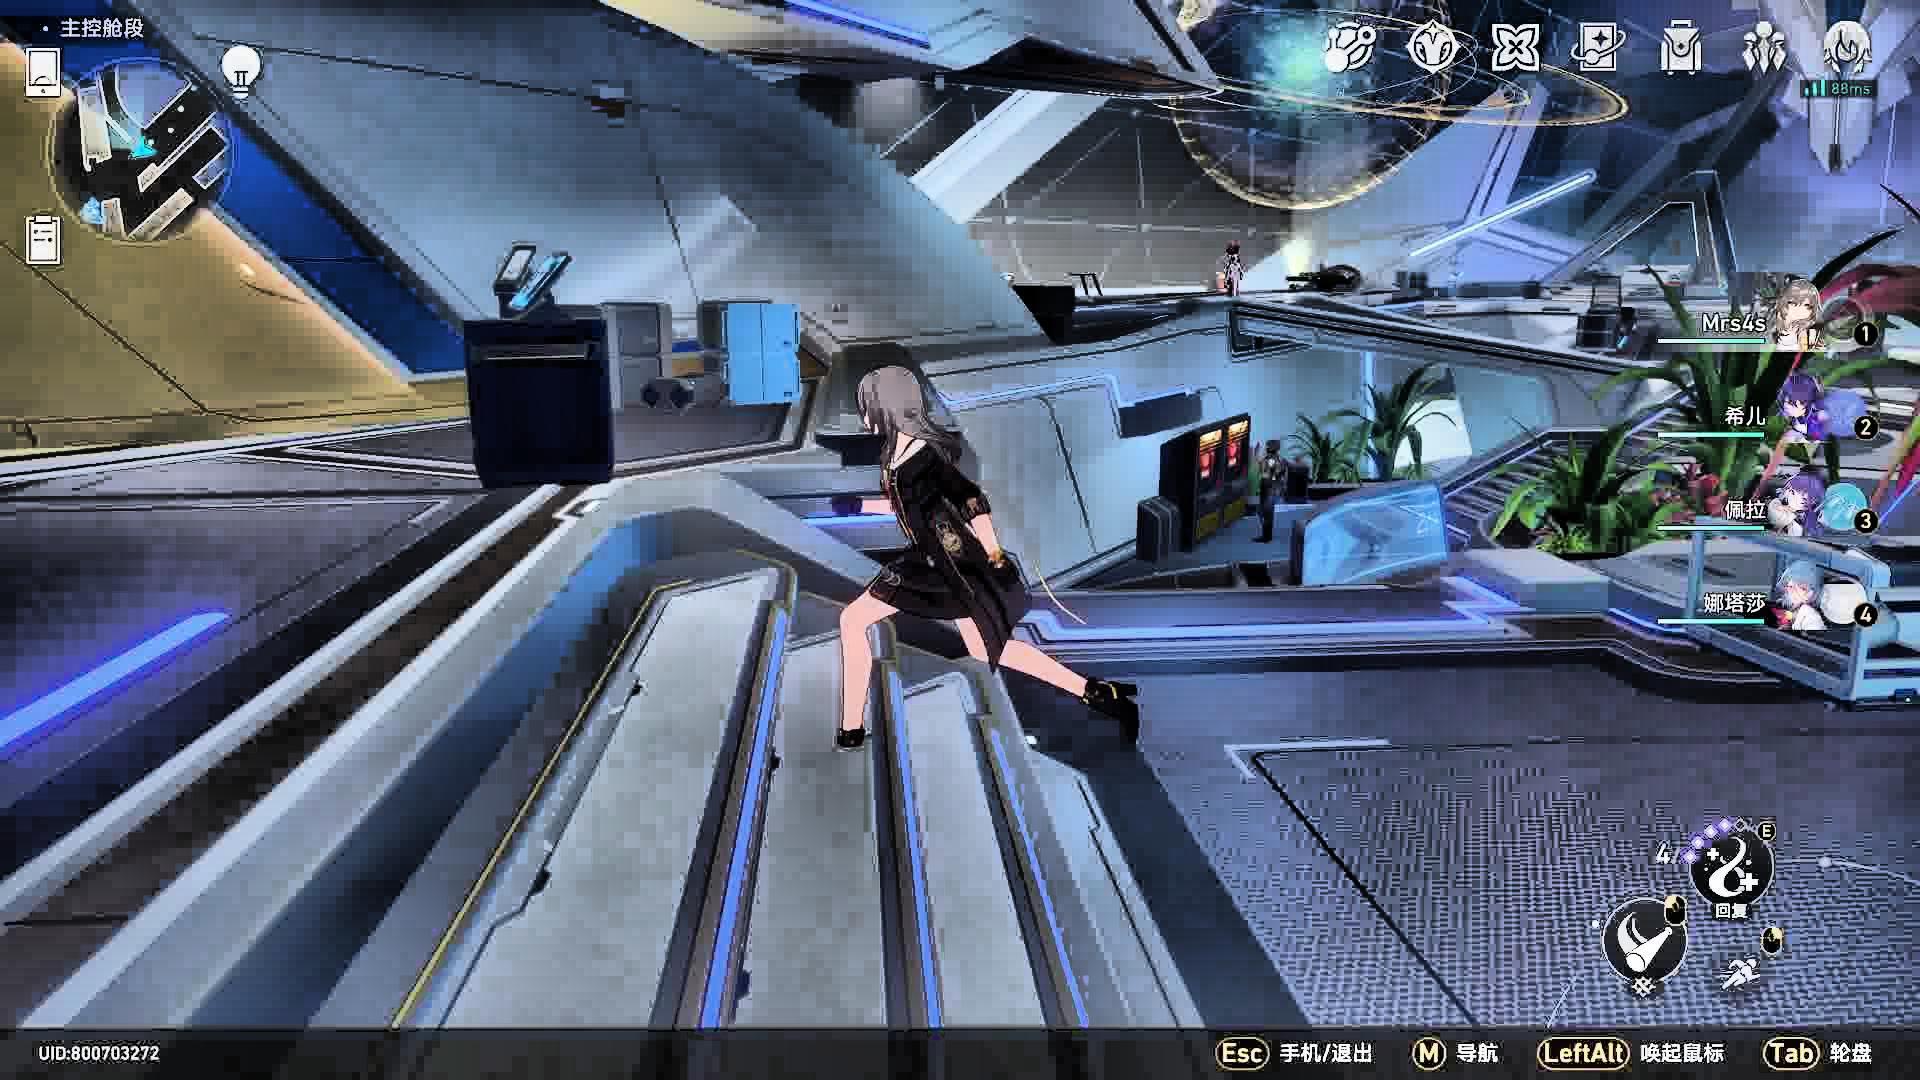Self: (835, 361, 1141, 765)
TeamMate: (1218, 243, 1249, 297)
